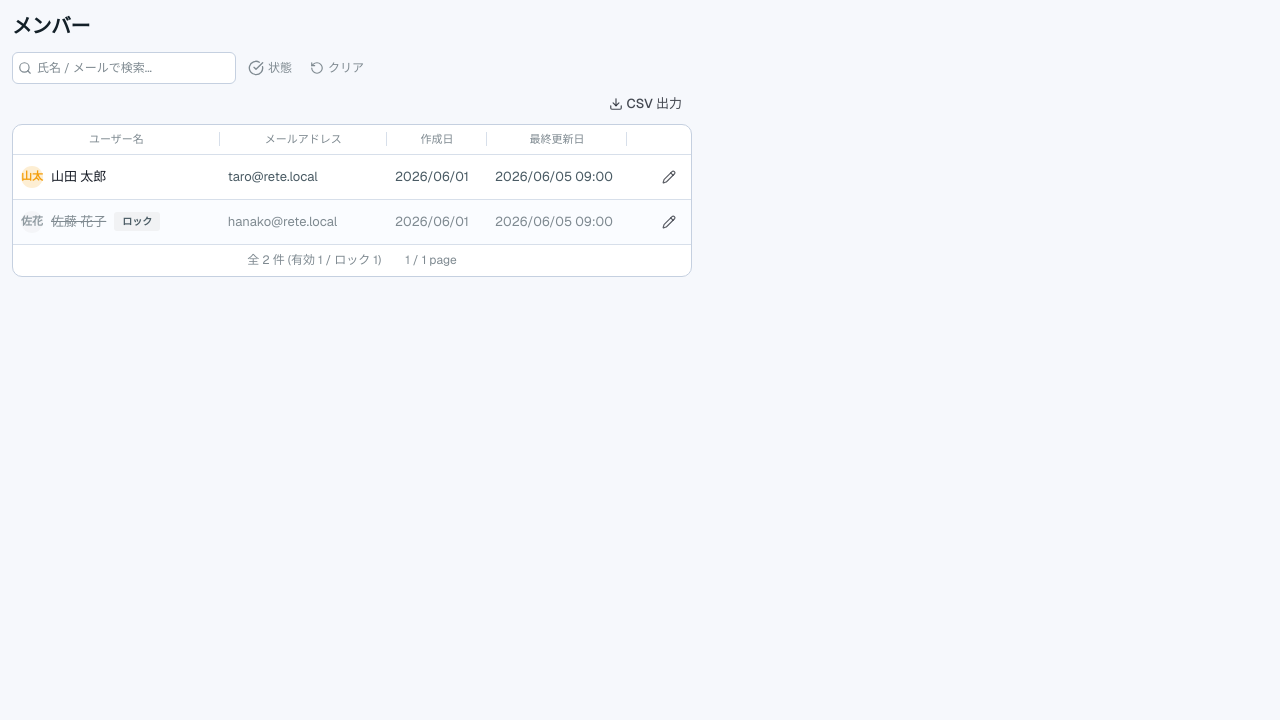
Test: MembersScreen › ステータスをトグルスイッチで有効⇔ロック切替できる（set-0070）
Step 1. Click the button named "山田 太郎 を編集" → (669, 176), box [655, 162, 683, 190]
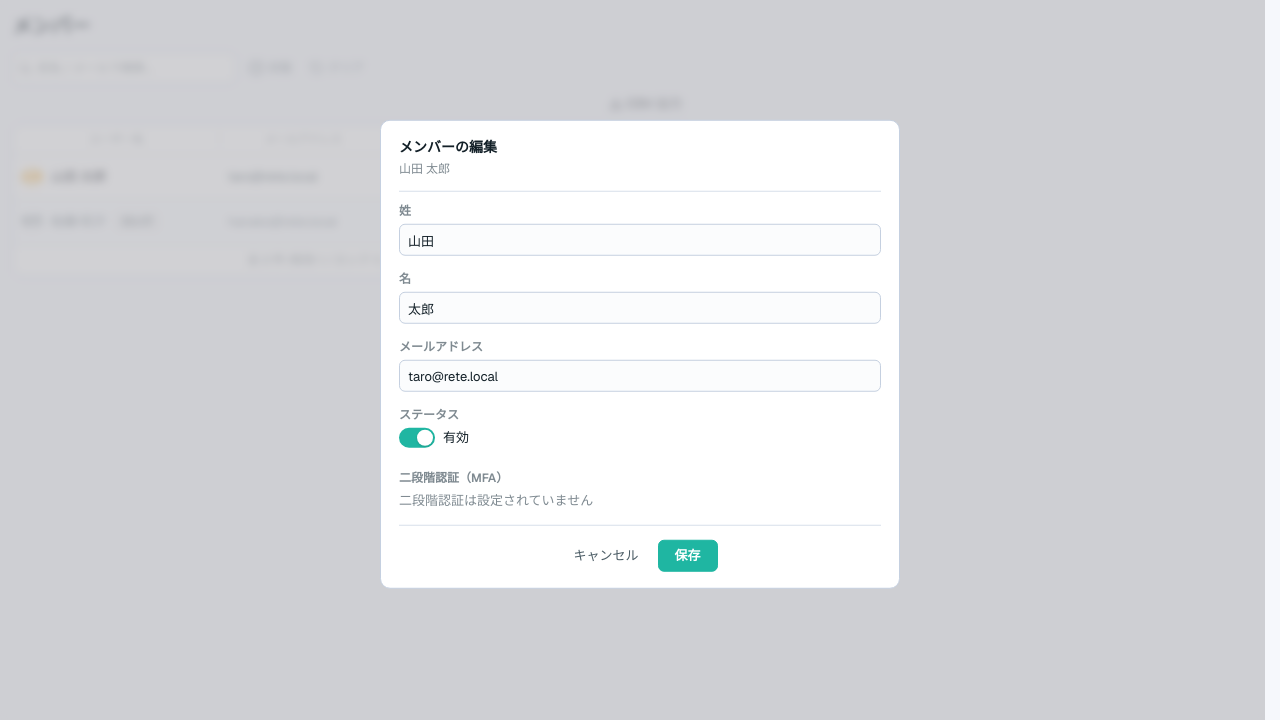
Now the text with test id "member-editor-status-label" reads "有効", box [443, 429, 469, 446]
Step 2. Click the switch named "アカウントをロックする" → (417, 438), box [399, 428, 435, 448]
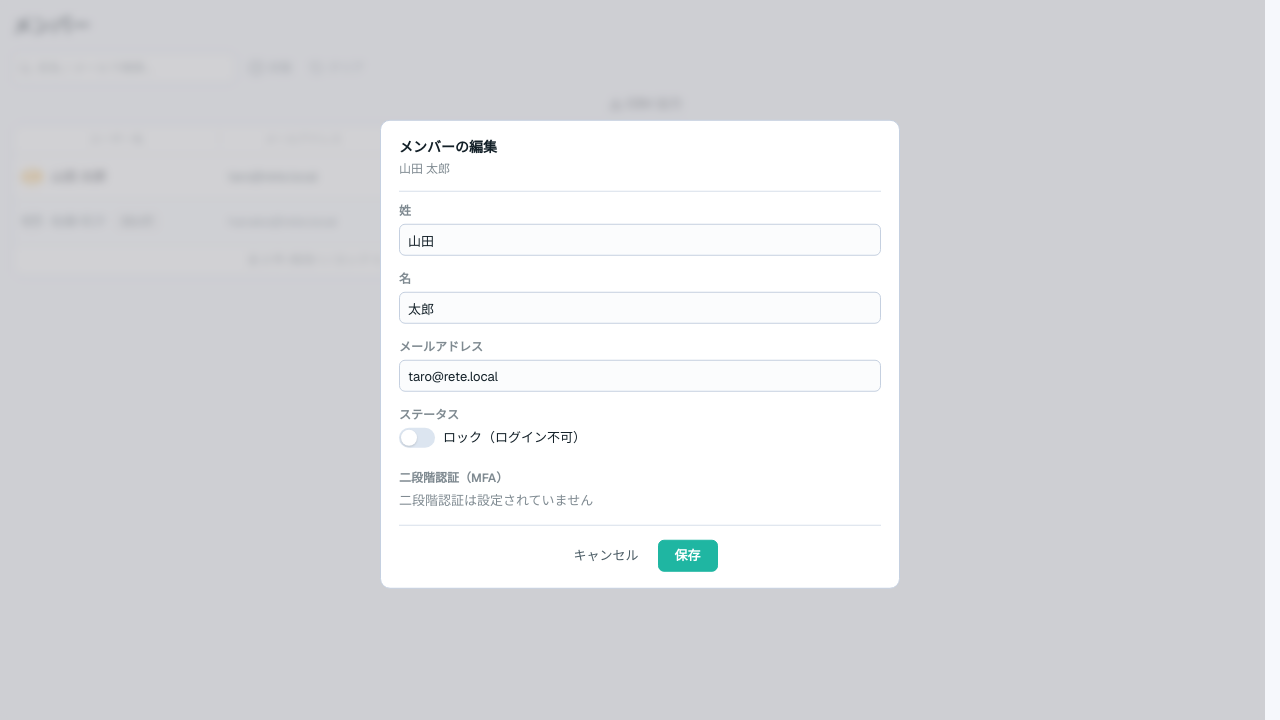
Now the text with test id "member-editor-status-label" reads "ロック（ログイン不可）", box [443, 429, 586, 446]
Step 3. Click the button "保存" → (688, 555), box [658, 539, 718, 571]
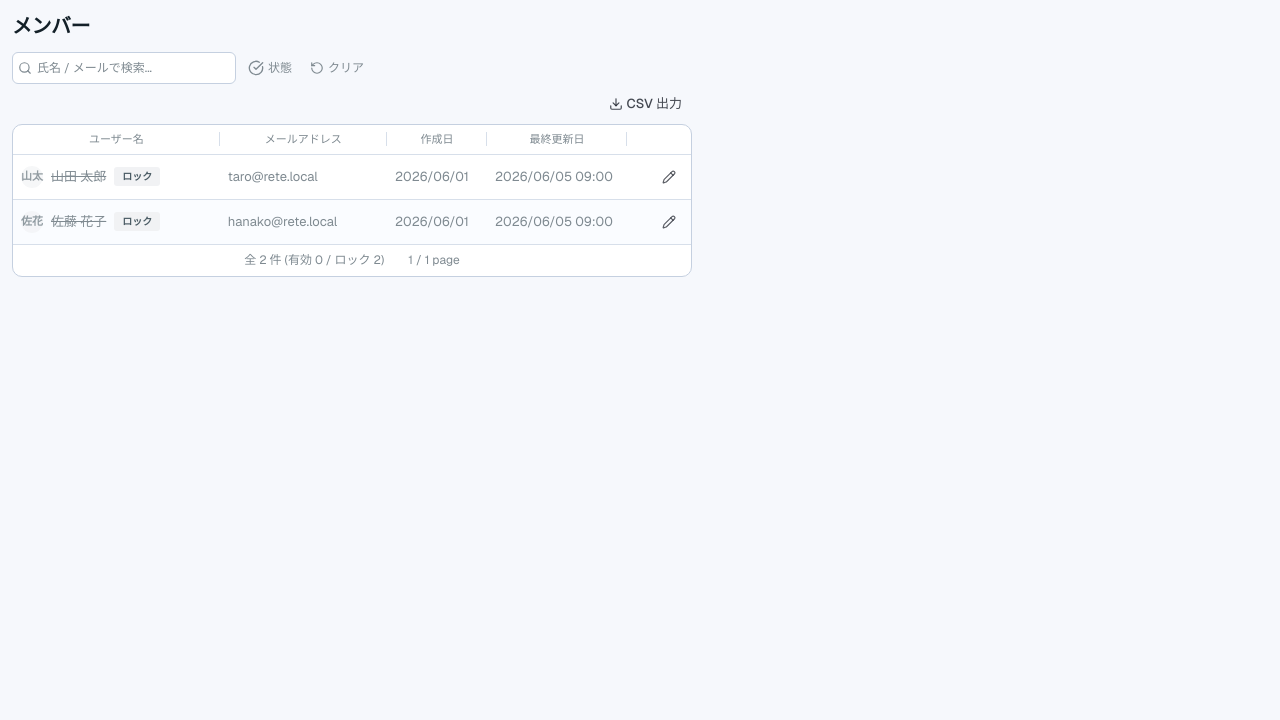
Now the heading "メンバーの編集" is gone
